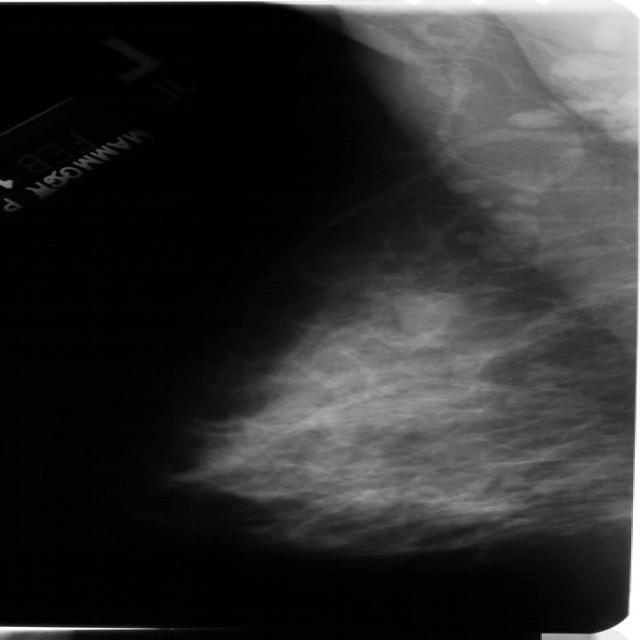tumour: (388, 290, 464, 334)
